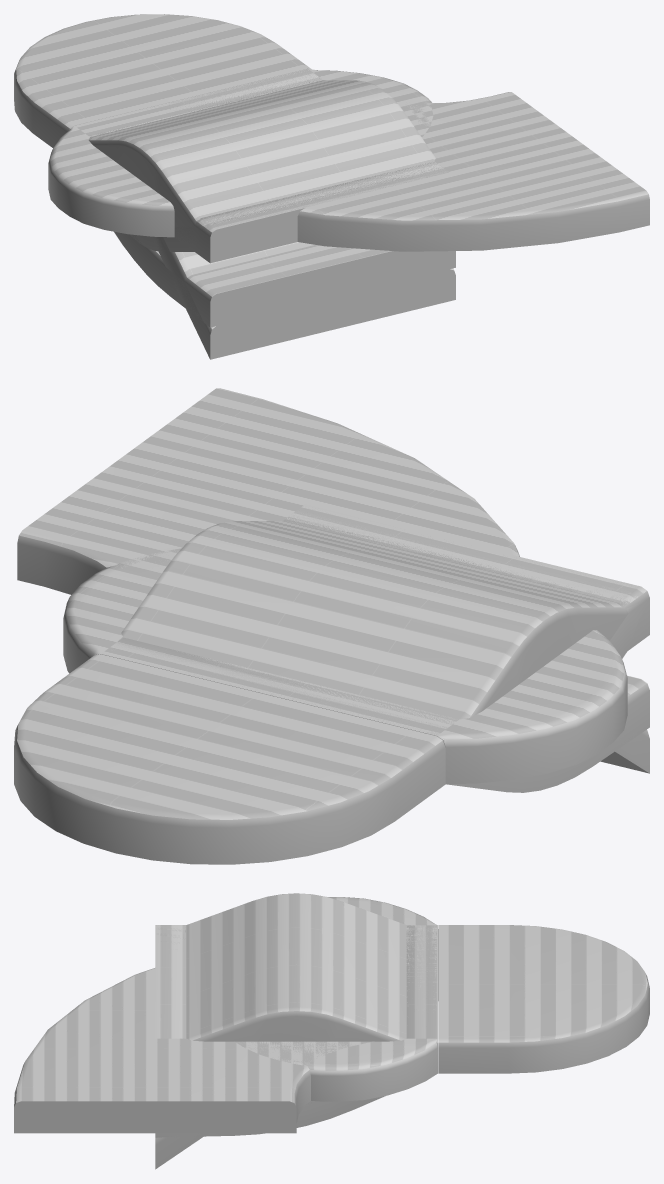
The model's file is Floor_2x4_SoftEdge_thin.fbx.
3 views of the same model, one above another, from view 1: azimuth 30°, elevation 25°; view 2: azimuth 150°, elevation 25°; view 3: azimuth 270°, elevation 25° (orthographic). The views are drawn at different scales.
Parts seen in each view (by area): view 1: Floor_2x4_SE_Tn_hill, Floor_2x4_SE_Tn_rotate, Floor_2x4_SE_Tn_cap, Floor_2x4_SE_Tn_ramp2, Floor_2x4_SE_Tn_ramp1, Floor_2x4_SE_Tn_circle, Floor_2x4_SE_Tn_deep, Floor_2x4_SE_Tn_main; view 2: Floor_2x4_SE_Tn_cap, Floor_2x4_SE_Tn_hill, Floor_2x4_SE_Tn_rotate, Floor_2x4_SE_Tn_circle, Floor_2x4_SE_Tn_deep, Floor_2x4_SE_Tn_main, Floor_2x4_SE_Tn_ramp2, Floor_2x4_SE_Tn_ramp1; view 3: Floor_2x4_SE_Tn_rotate, Floor_2x4_SE_Tn_hill, Floor_2x4_SE_Tn_cap, Floor_2x4_SE_Tn_circle, Floor_2x4_SE_Tn_deep, Floor_2x4_SE_Tn_ramp2, Floor_2x4_SE_Tn_ramp1, Floor_2x4_SE_Tn_main.
Boxes of the visible parts, x1,y1,x2,y2 form: Floor_2x4_SE_Tn_hill: (88, 75, 448, 262); Floor_2x4_SE_Tn_rotate: (297, 92, 649, 251); Floor_2x4_SE_Tn_cap: (14, 14, 311, 147); Floor_2x4_SE_Tn_ramp2: (114, 231, 455, 327); Floor_2x4_SE_Tn_ramp1: (152, 75, 455, 359); Floor_2x4_SE_Tn_circle: (48, 69, 433, 237); Floor_2x4_SE_Tn_deep: (130, 69, 449, 263); Floor_2x4_SE_Tn_main: (70, 70, 321, 136); Floor_2x4_SE_Tn_cap: (14, 654, 445, 864); Floor_2x4_SE_Tn_hill: (113, 506, 649, 735); Floor_2x4_SE_Tn_rotate: (17, 388, 519, 707); Floor_2x4_SE_Tn_circle: (63, 548, 627, 784); Floor_2x4_SE_Tn_deep: (95, 504, 649, 746); Floor_2x4_SE_Tn_main: (101, 642, 457, 746); Floor_2x4_SE_Tn_ramp2: (118, 658, 649, 792); Floor_2x4_SE_Tn_ramp1: (112, 650, 649, 773); Floor_2x4_SE_Tn_rotate: (14, 968, 374, 1133); Floor_2x4_SE_Tn_hill: (157, 893, 437, 1044); Floor_2x4_SE_Tn_cap: (438, 925, 649, 1073); Floor_2x4_SE_Tn_circle: (235, 897, 437, 1101); Floor_2x4_SE_Tn_deep: (155, 925, 437, 1104); Floor_2x4_SE_Tn_ramp2: (155, 1096, 385, 1137); Floor_2x4_SE_Tn_ramp1: (155, 927, 437, 1169); Floor_2x4_SE_Tn_main: (406, 925, 437, 1010).
Bounding box in the file's own units: 694 × 249 × 900.
